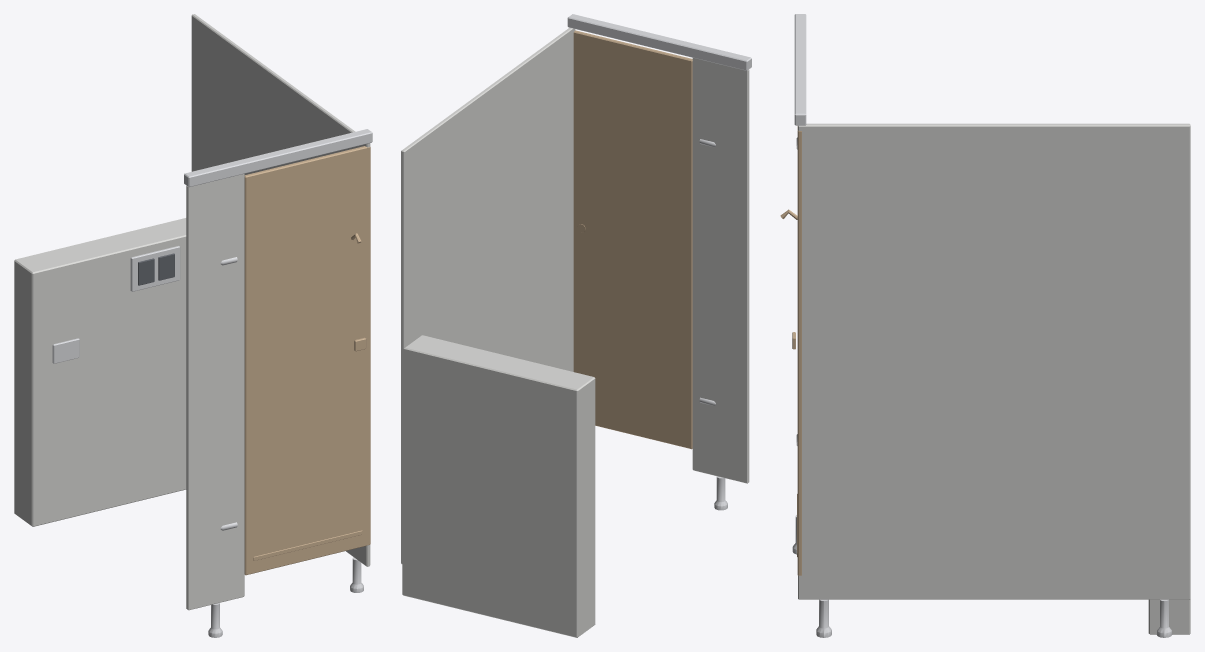
Rendered from office-lobby-and-facilities-wc-cubicle-module-7e6cbdd9__26173.glb.
The picture shows the model from 3 angles, left to right: view 1: azimuth 30°, elevation 25°; view 2: azimuth 150°, elevation 25°; view 3: azimuth 270°, elevation 25°; orthographic projection. The views are drawn at different scales.
Parts seen in each view (by area): view 1: wc-cubicle-module, cubicle-door; view 2: wc-cubicle-module, cubicle-door; view 3: wc-cubicle-module, cubicle-door.
Boxes of the visible parts, x1,y1,x2,y2 form: wc-cubicle-module: (14, 14, 372, 637); cubicle-door: (244, 146, 370, 575); wc-cubicle-module: (401, 14, 751, 637); cubicle-door: (573, 30, 692, 449); wc-cubicle-module: (792, 14, 1190, 637); cubicle-door: (780, 126, 801, 575).
Bounding box in the file's own units: 0.925 × 2.2 × 1.57.
